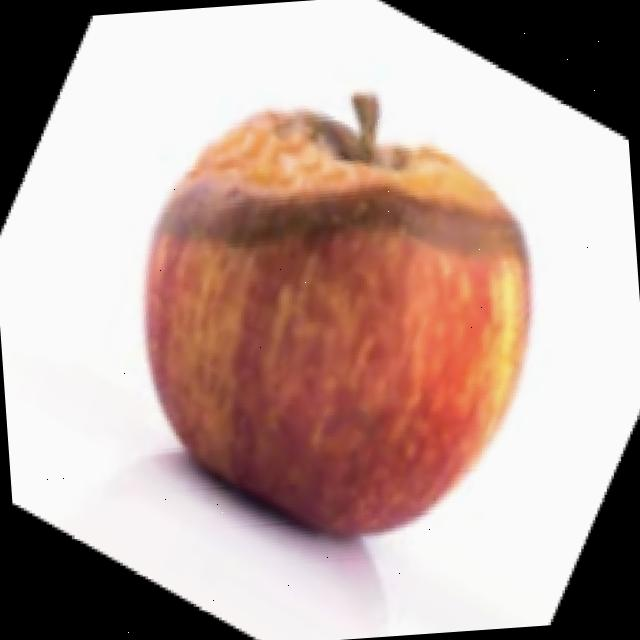Rotten: (127, 77, 557, 553)
